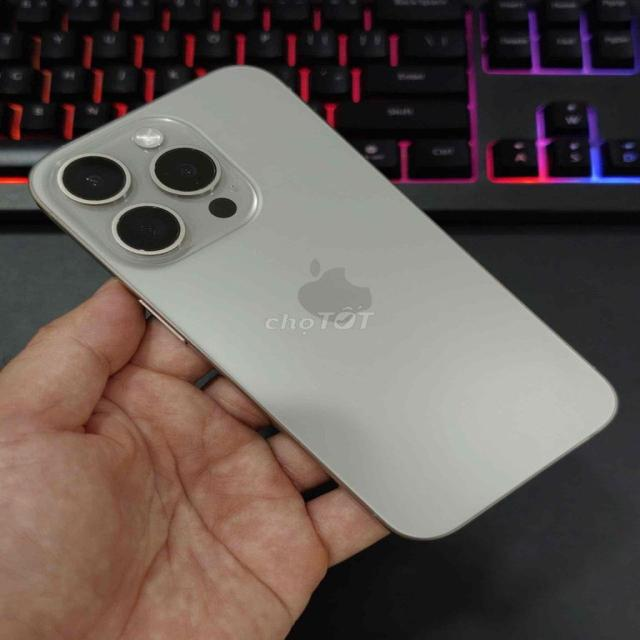gen_15: (20, 56, 627, 564)
